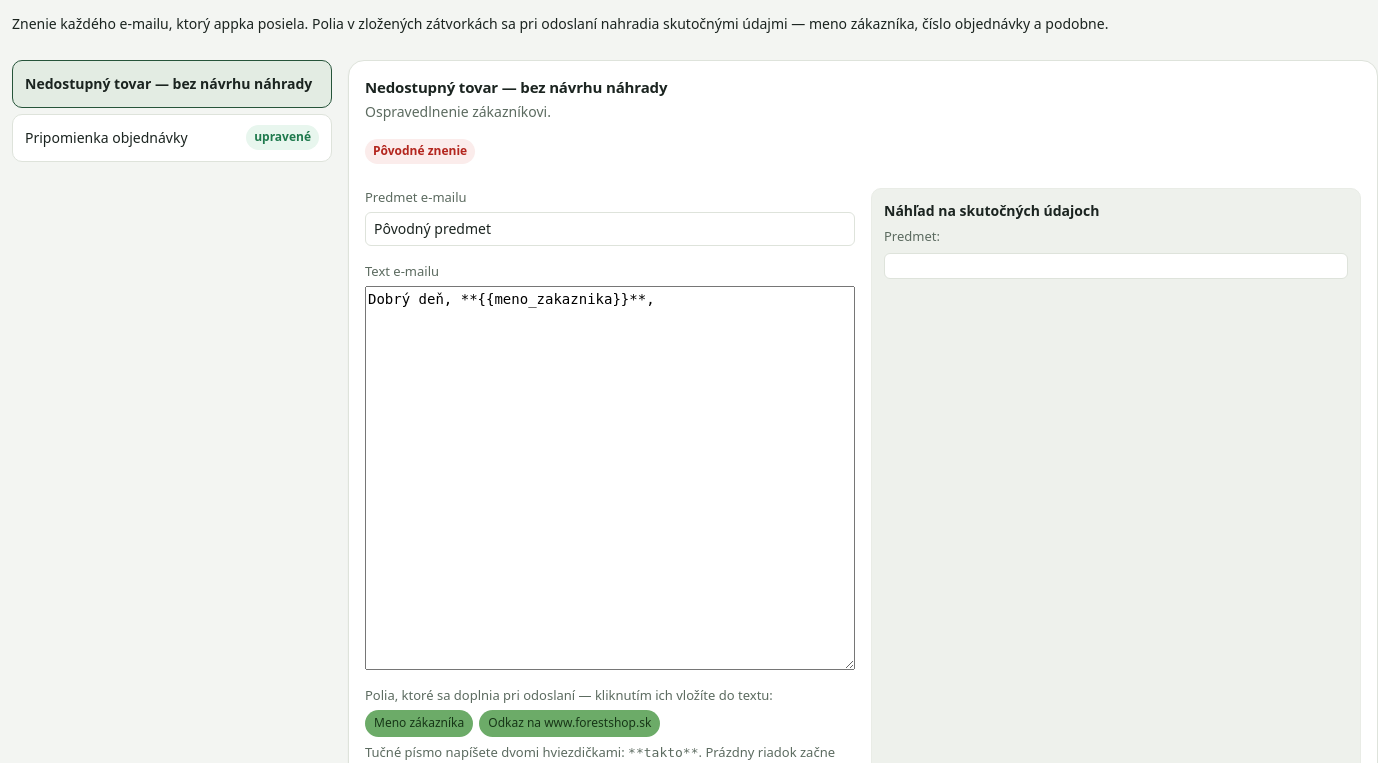
Scenario: prepnutie druhu otvorí jeho vlastné znenie
What coordinates should you click on to do the following:
click the button with test id "mail-template-pick-order_reminder"
I would click on:
 (172, 138)
Its box is 12,114 -> 332,162.
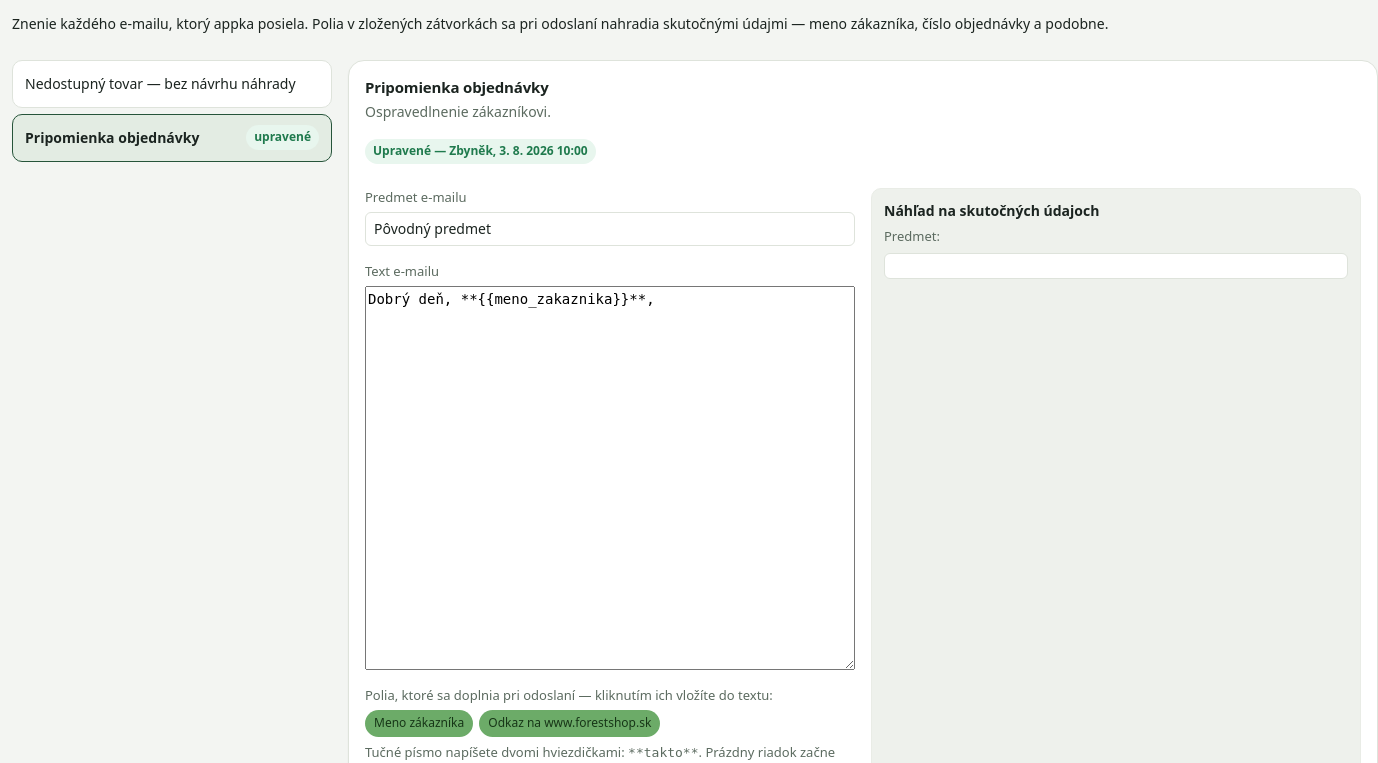
expect the text with test id "mail-template-customized" shows "Zbyněk": met, box 431,142 -> 493,159
